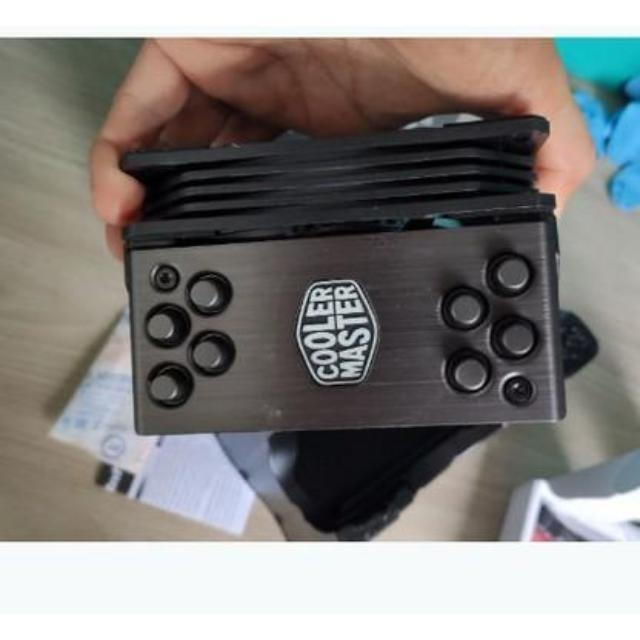CPU_Fan: (120, 123, 577, 445)
